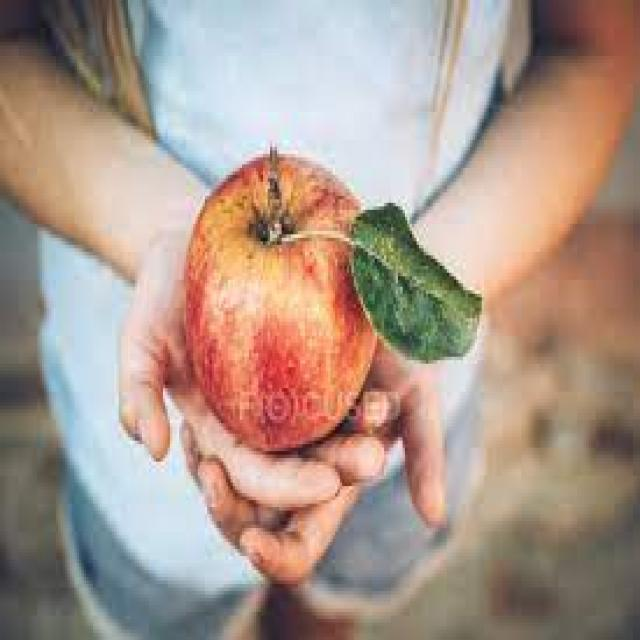Fresh Apple: (185, 125, 393, 460)
